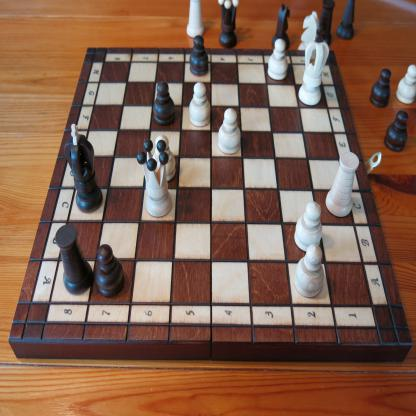black-bishop: (336, 0, 356, 40)
black-king: (64, 122, 103, 214)
black-knight: (271, 2, 291, 50)
black-pawn: (94, 244, 124, 298), (383, 109, 409, 153), (152, 80, 176, 126), (369, 67, 392, 109)
black-queen: (218, 0, 238, 49)
black-rook: (55, 223, 94, 296), (316, 0, 335, 47)
white-king: (298, 24, 330, 107)
white-knight: (298, 10, 320, 51)
white-pawn: (294, 244, 324, 298), (294, 200, 322, 251), (152, 134, 176, 183), (218, 107, 241, 154), (189, 81, 211, 128), (267, 37, 288, 82), (395, 64, 416, 106), (189, 34, 209, 76)
white-queen: (136, 139, 173, 218)
white-rook: (324, 151, 360, 218), (186, 0, 205, 39)
